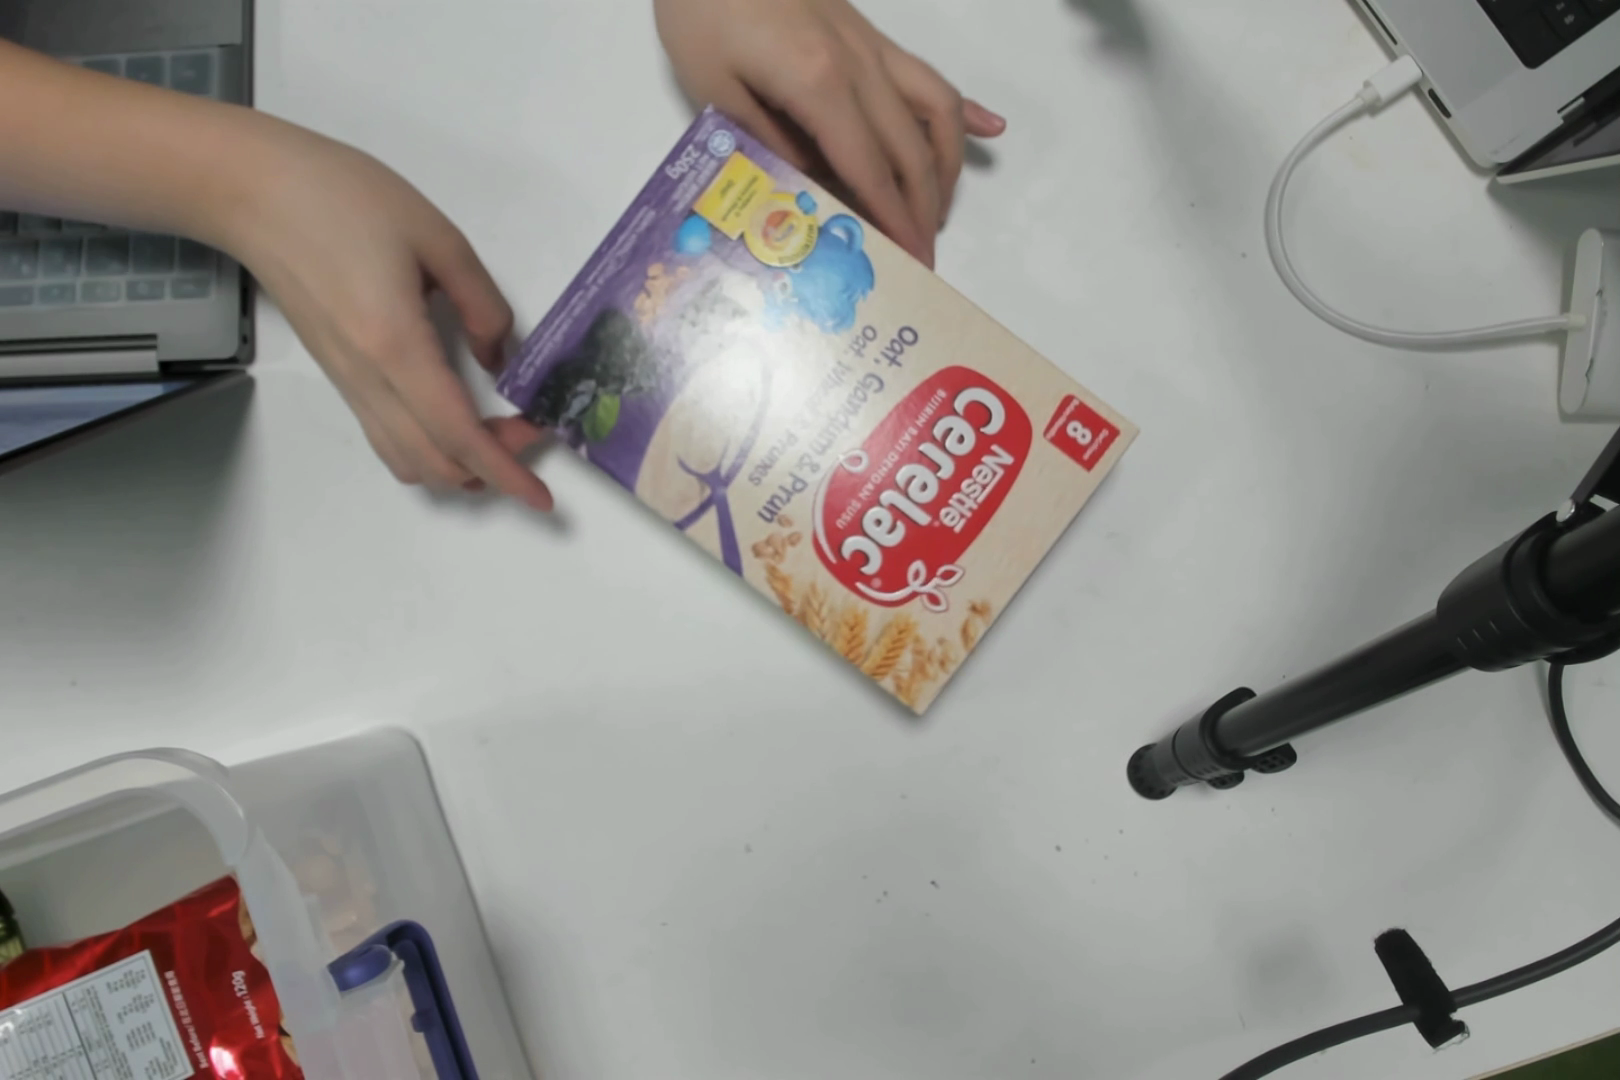d: (535, 135, 1120, 646)
